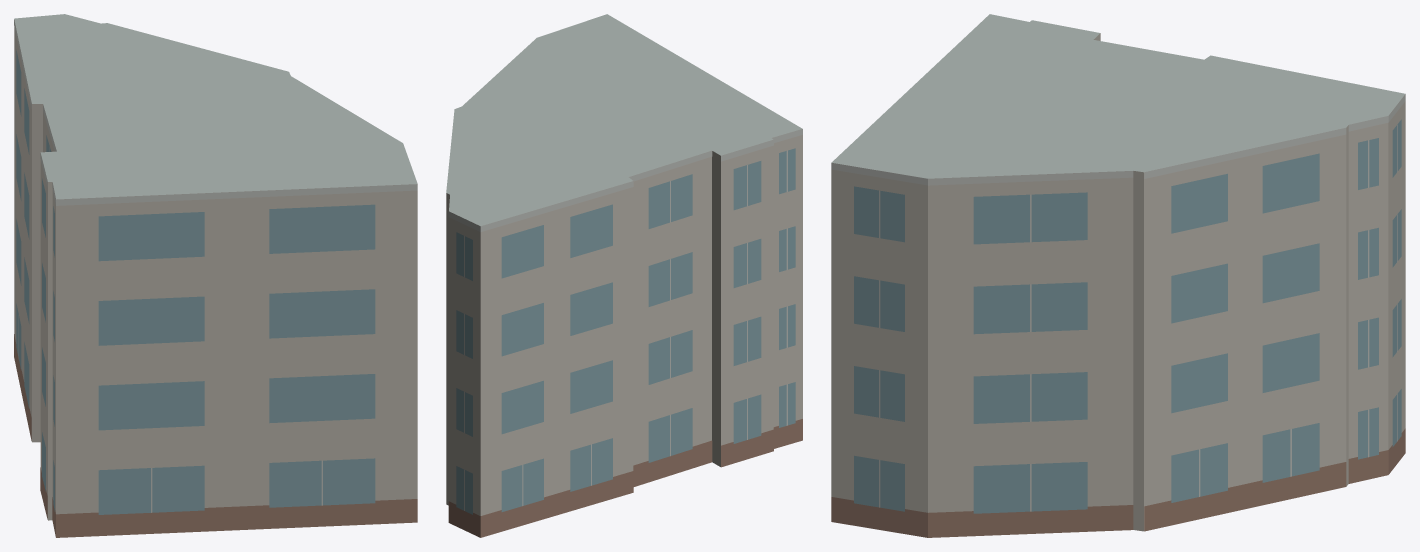
Rendered from survey-upis-32973428.glb.
The picture shows the model from 3 angles, left to right: view 1: azimuth 30°, elevation 25°; view 2: azimuth 150°, elevation 25°; view 3: azimuth 270°, elevation 25°; orthographic projection. The views are drawn at different scales.
Parts seen in each view (by area): view 1: survey-upis-32973428.tmp; view 2: survey-upis-32973428.tmp; view 3: survey-upis-32973428.tmp.
Part boxes in pixels (bbox=[...]): survey-upis-32973428.tmp: bbox=[14, 14, 417, 537]; survey-upis-32973428.tmp: bbox=[446, 14, 802, 537]; survey-upis-32973428.tmp: bbox=[831, 14, 1405, 537].
Bounding box in the file's own units: 12.6 × 12.8 × 18.56.
